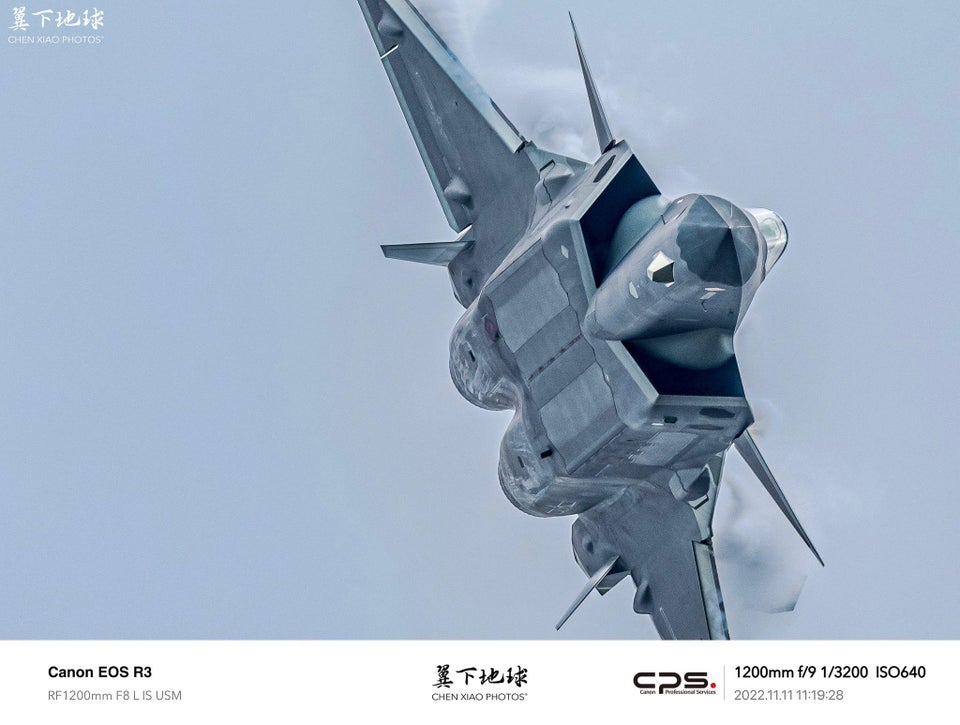J20: (357, 1, 825, 640)
